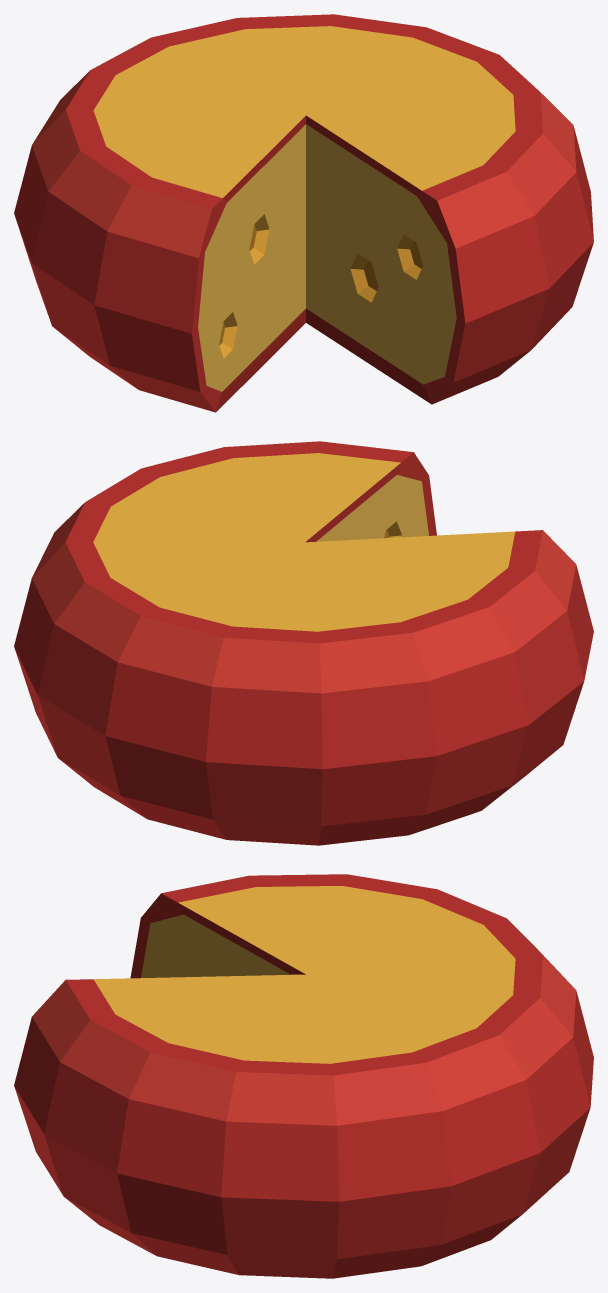
Rendered from FMS_Food_Cheese_Block.fbx.
The picture shows the model from 3 angles, top to bottom: view 1: azimuth 30°, elevation 25°; view 2: azimuth 150°, elevation 25°; view 3: azimuth 270°, elevation 25°; orthographic projection.
Parts seen in each view (by area): view 1: item_food_cheese_block; view 2: item_food_cheese_block; view 3: item_food_cheese_block.
Boxes of the visible parts, left/top/right/bottom form: item_food_cheese_block: left=14, top=14, right=593, bottom=412; item_food_cheese_block: left=14, top=441, right=593, bottom=845; item_food_cheese_block: left=14, top=874, right=593, bottom=1278.
Bounding box in the file's own units: 0.2909 × 0.115 × 0.2915.
Materials: 1 (1 with a texture image).
